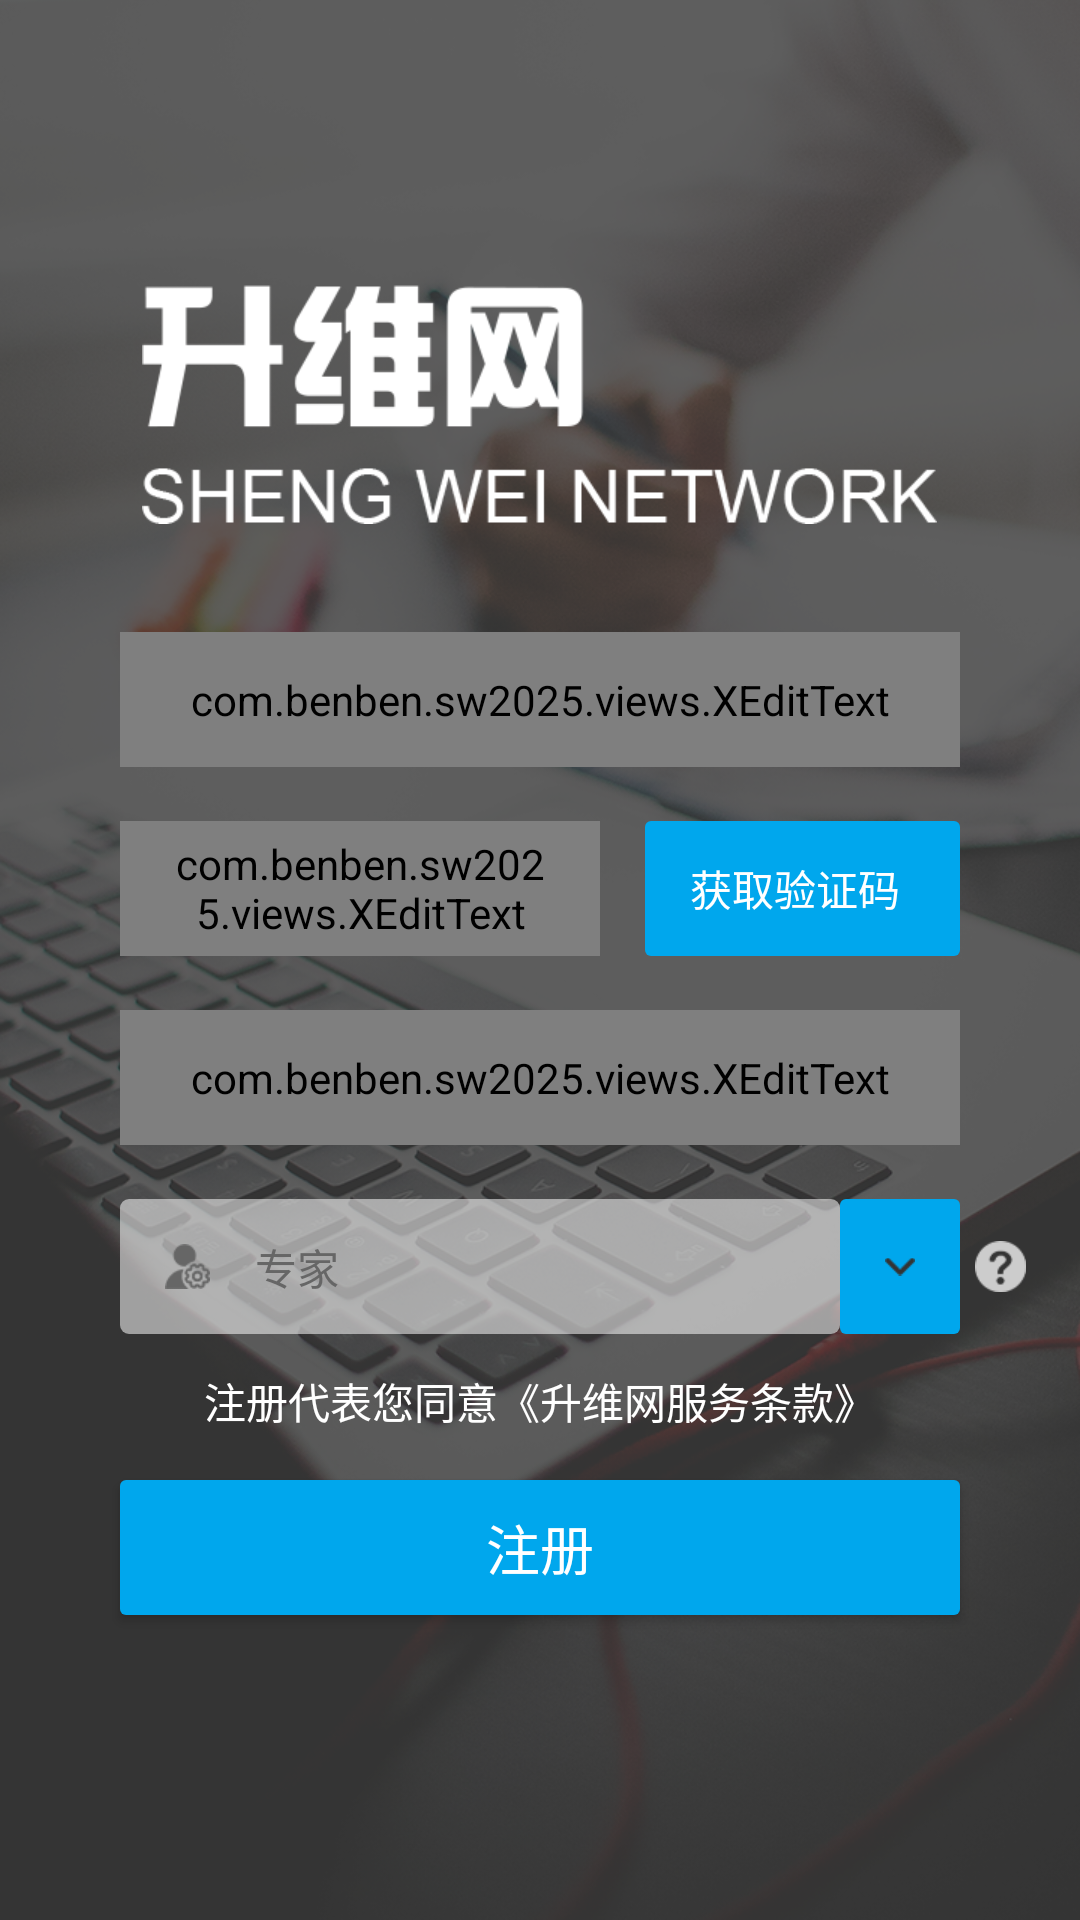

Icons on this 1080 x 1920 Android screen, each with the point to tap as point (x, y):
arrow down: point (900, 1266)
ask: point (1000, 1266)
